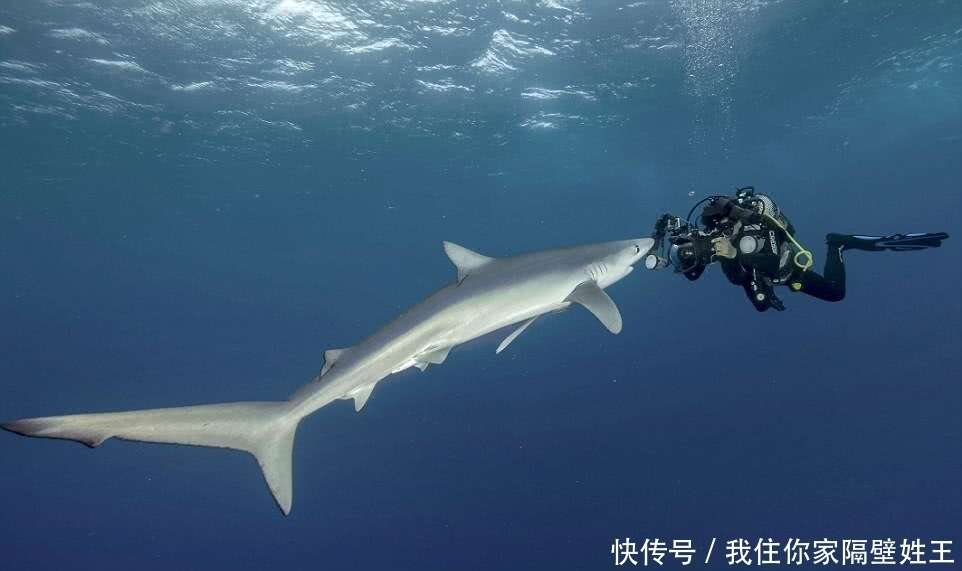shark: (1, 222, 663, 517)
